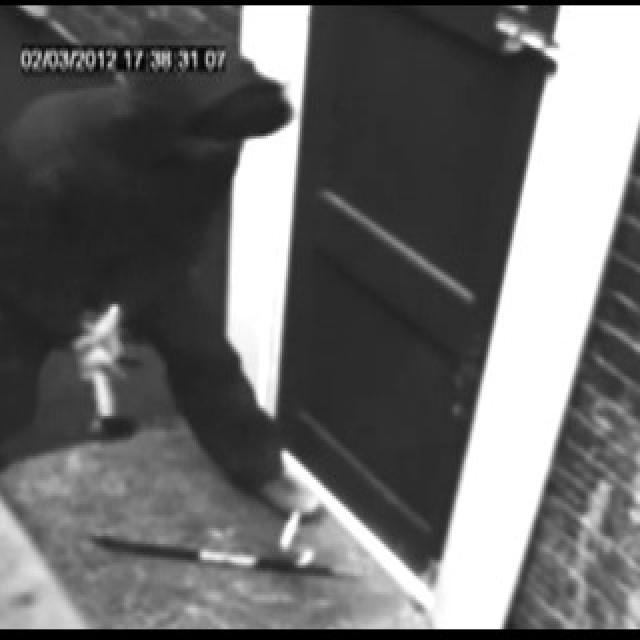thief: (76, 36, 306, 198)
